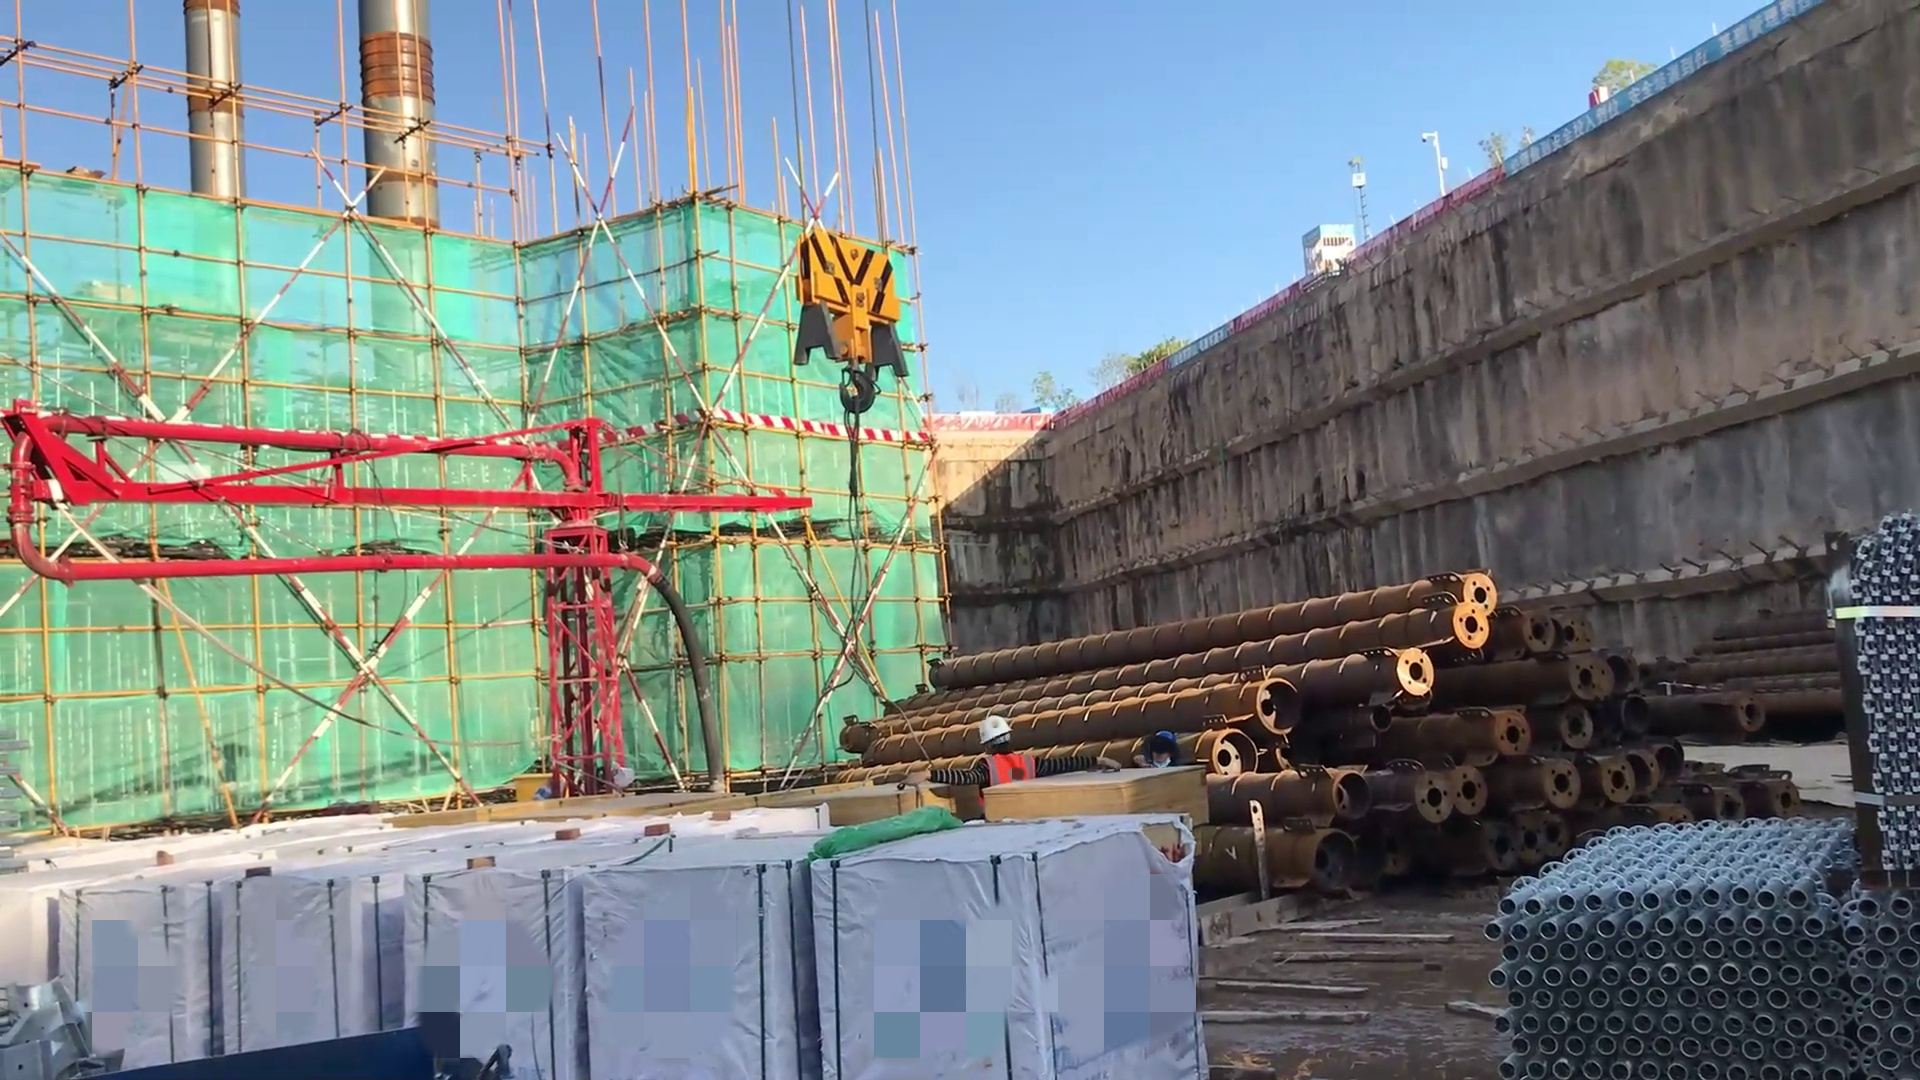board: (973, 769, 1212, 840)
ebox: (500, 749, 580, 813)
helmet: (1134, 731, 1194, 783), (968, 716, 1016, 758)
hook: (787, 212, 925, 428)
hopper: (55, 984, 536, 1080)
person: (882, 713, 1052, 820), (1091, 719, 1197, 794)
scaffold: (1469, 806, 1917, 1080), (1804, 499, 1920, 876)
slogan: (1498, 1, 1817, 191), (1156, 323, 1248, 380)
vest: (968, 753, 1040, 813)
